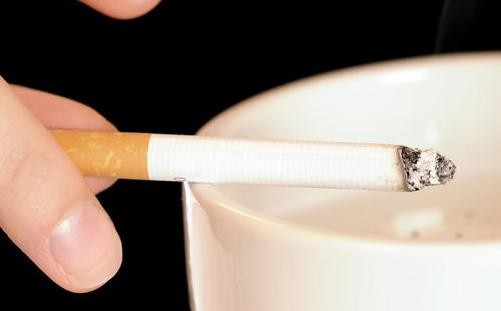smoke: (44, 126, 457, 199)
